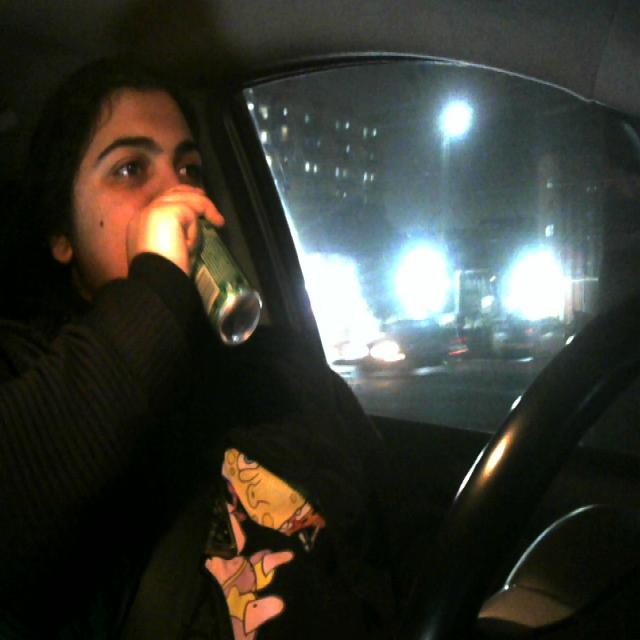drinking: (178, 205, 275, 358)
